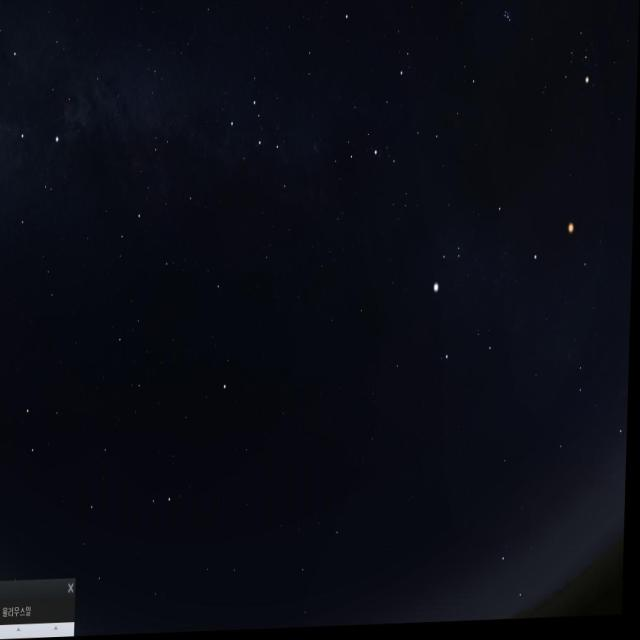cassiopeia: (218, 70, 294, 211)
pleiades: (496, 1, 516, 41)
